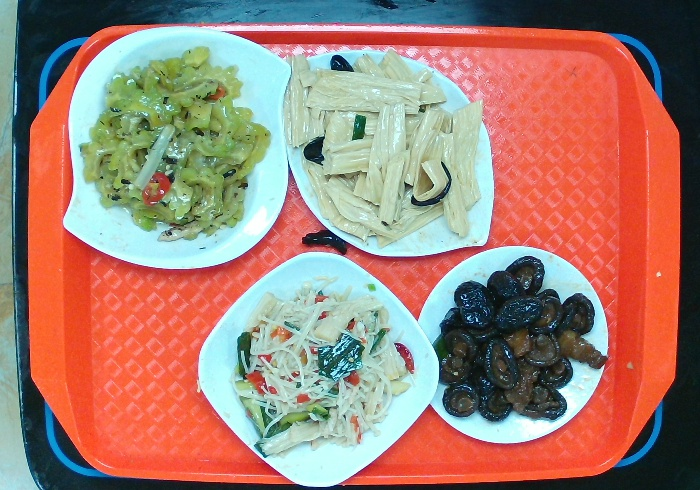RJxy-Da_Du_Pan: (281, 44, 505, 260)
RJxy-Shuang_Jiao_Pan: (54, 23, 297, 277)
RJxy-Si_Fang_Wan: (188, 245, 441, 490)
RJxy-Xiao_Yuan_Die: (402, 234, 616, 451)
